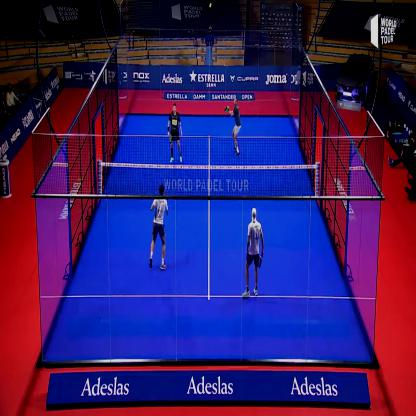ball: (208, 1, 212, 11)
